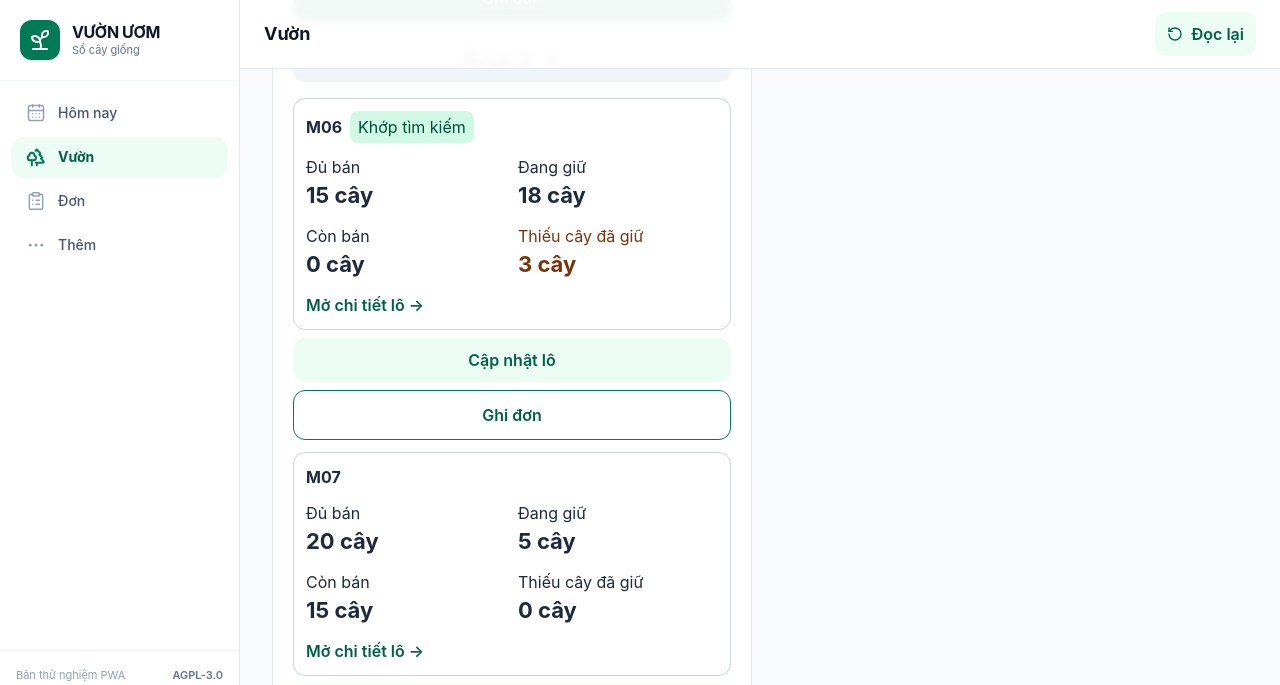
Test: V2-A3 quick update composition (real Dexie) › inventory uses existing absolute preview; lowering living requires explicit ready, then saves and refreshes
The width and height of the screenshot is (1280, 685).
(page scrolled)
Step 1. Click the button "Cập nhật lô" below "M06" → click(512, 360), box x1=293 y1=338 x2=731 y2=382
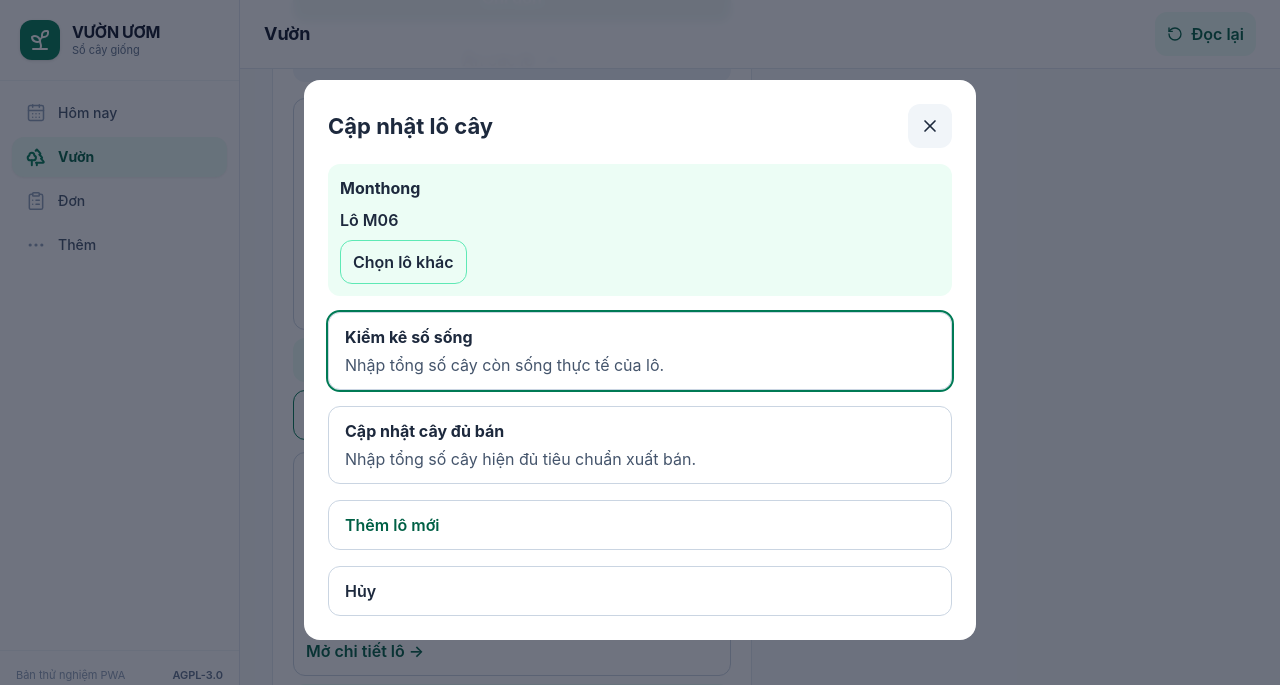
Step 2. Click the button "Kiểm kê số sống Nhập tổng số cây còn sống thực tế của lô." → click(409, 337), box x1=328 y1=312 x2=952 y2=390
(page scrolled)
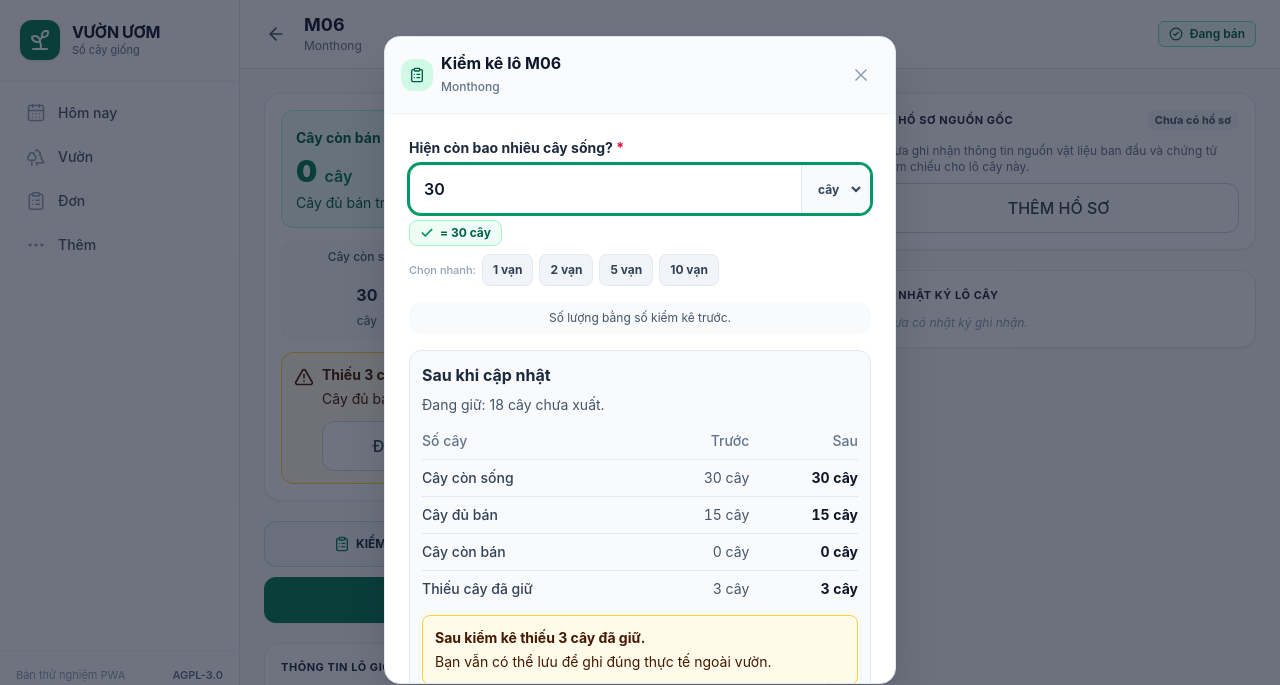
Now the field labelled "Hiện còn bao nhiêu cây sống? *" holds "30"
Step 3. Replace the text in the field labelled "Hiện còn bao nhiêu cây sống? *" with "10" → (606, 189), box x1=410 y1=165 x2=801 y2=213
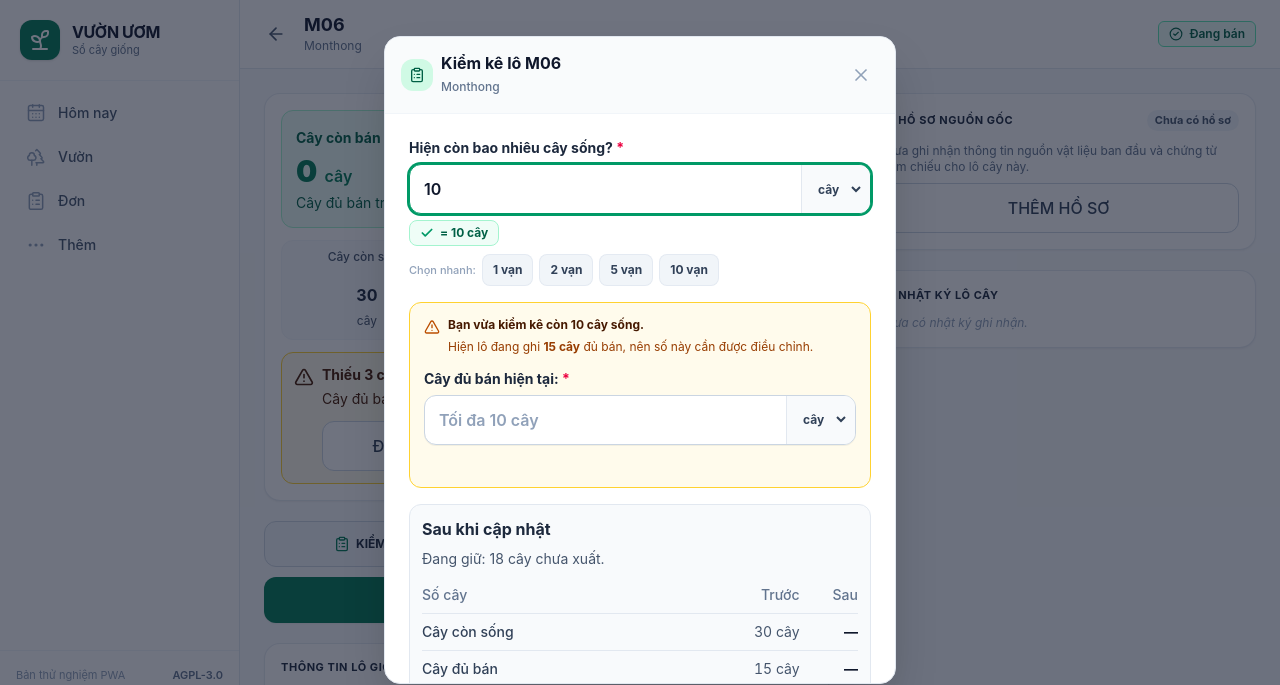
Now the field labelled "Cây đủ bán hiện tại: *" is empty
Step 4. Type "11" into the field labelled "Cây đủ bán hiện tại: *" → (606, 420), box x1=425 y1=396 x2=786 y2=444
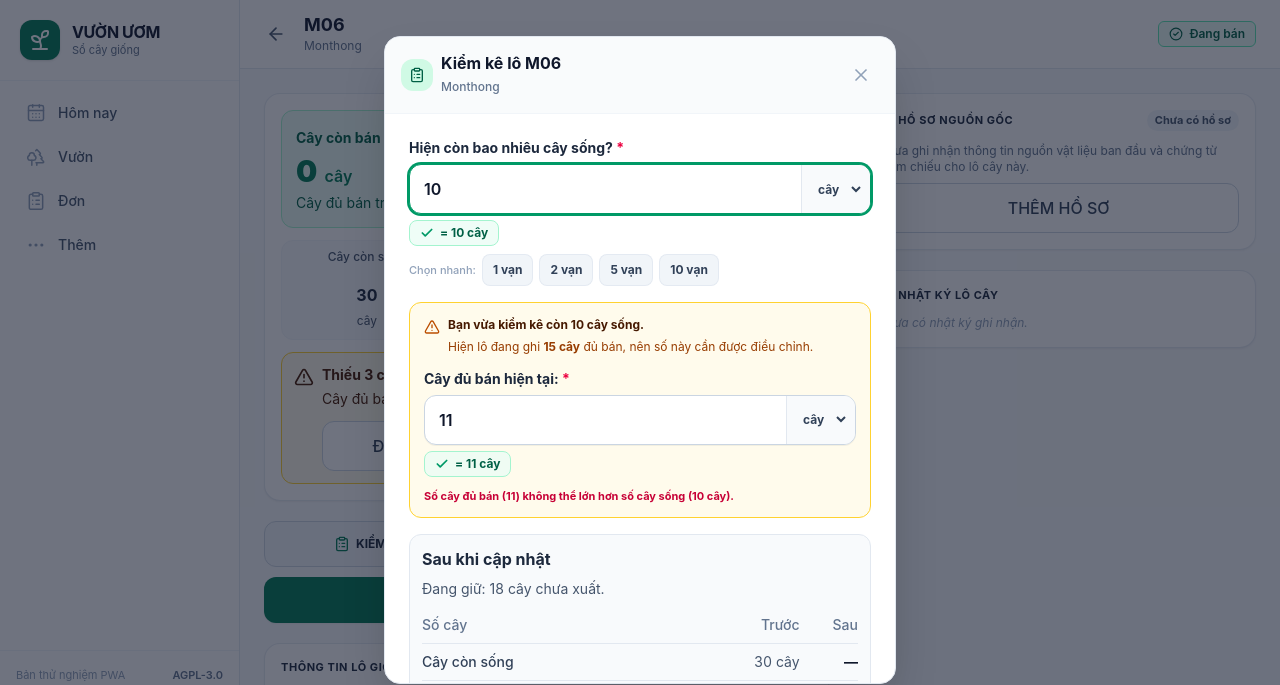
Step 5. Replace the text in the field labelled "Cây đủ bán hiện tại: *" with "8" → (606, 420), box x1=425 y1=396 x2=786 y2=444
(page scrolled)
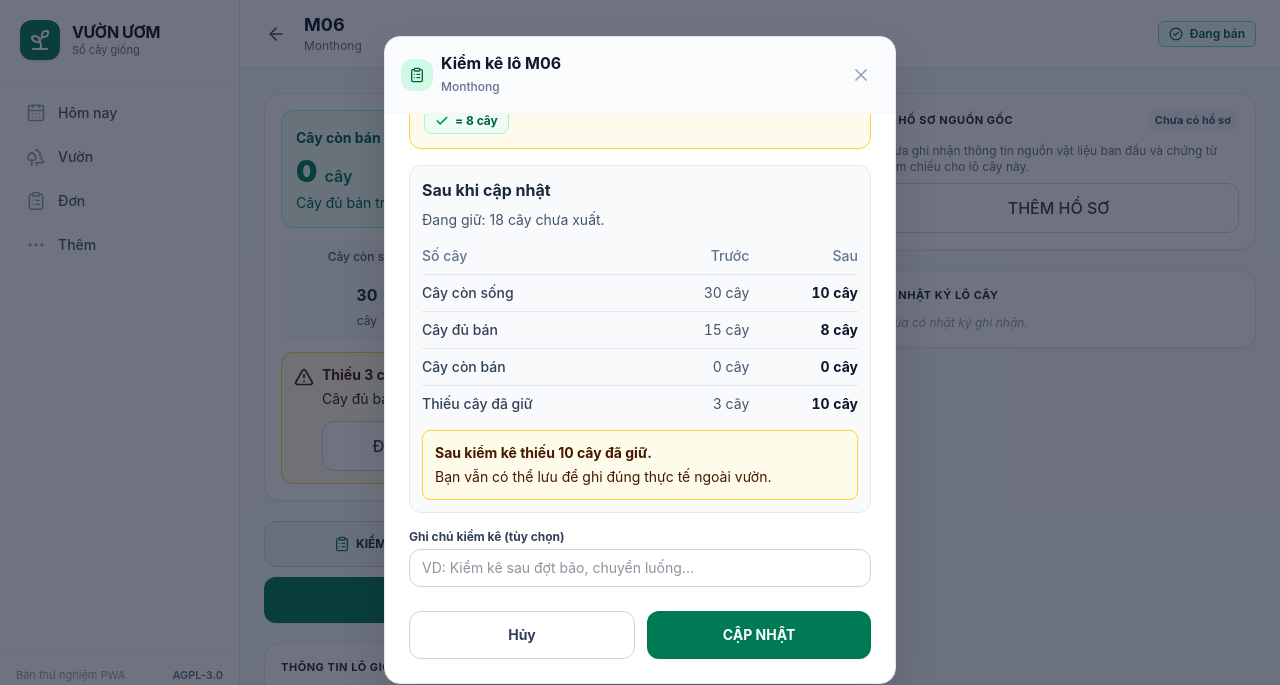
Now the row "Cây còn sống 30 cây 10 cây" is shown, box x1=422 y1=275 x2=858 y2=312
Now the row "Cây đủ bán 15 cây 8 cây" is shown, box x1=422 y1=312 x2=858 y2=349
Now the row "Cây còn bán 0 cây 0 cây" is shown, box x1=422 y1=349 x2=858 y2=386
Step 6. Click the button "CẬP NHẬT" → click(759, 635), box x1=647 y1=611 x2=871 y2=659
(page scrolled)
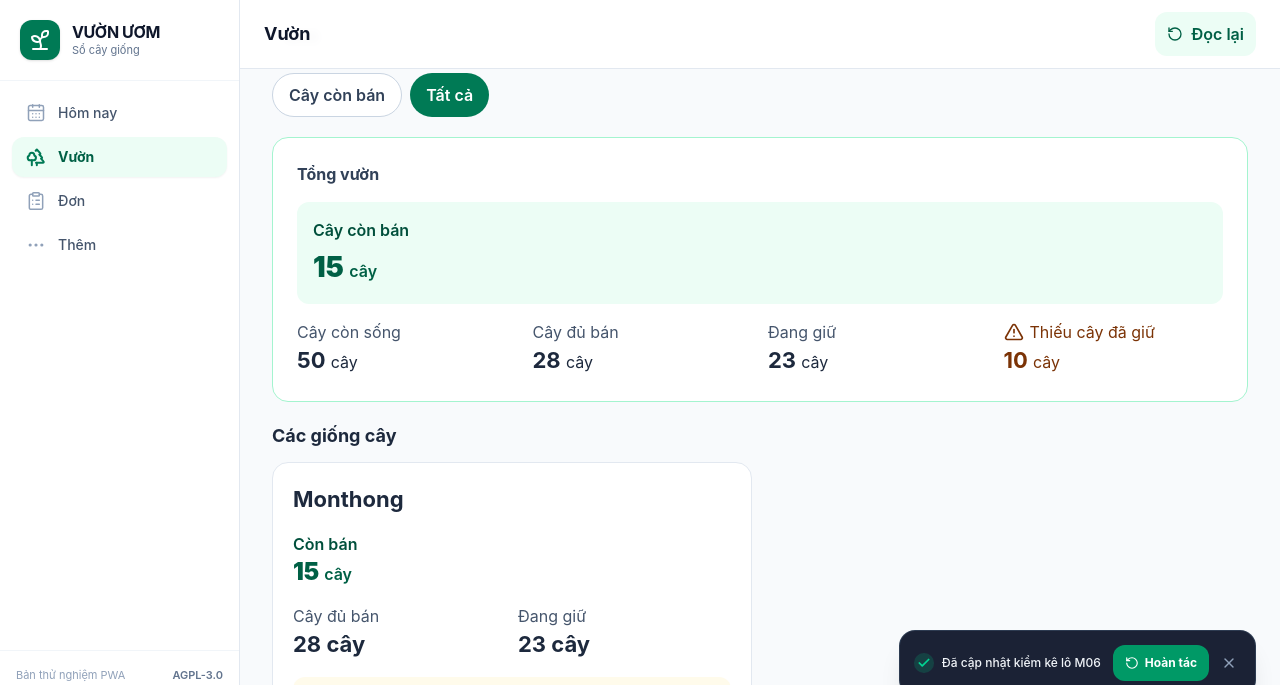
Now the element "Tổng vườn" is shown, box x1=272 y1=137 x2=1248 y2=402
Now the text "50" is shown, box x1=297 y1=347 x2=326 y2=373
Now the text "15" below "Tổng vườn" is shown, box x1=313 y1=250 x2=344 y2=284
